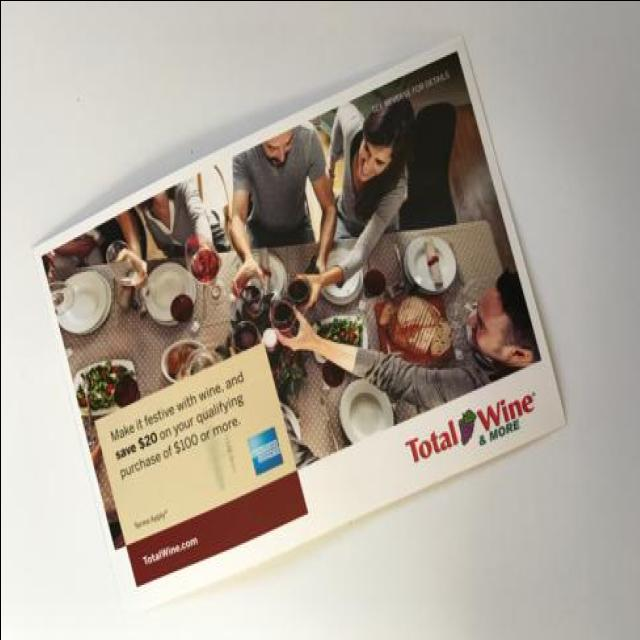kertas: (26, 28, 569, 620)
